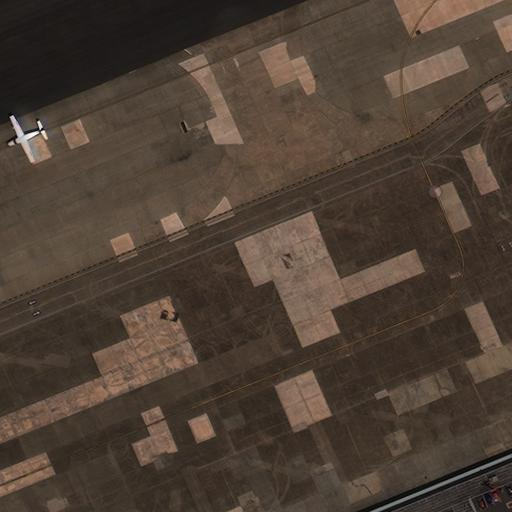Medium Civil Transport: (8, 115, 44, 162)
